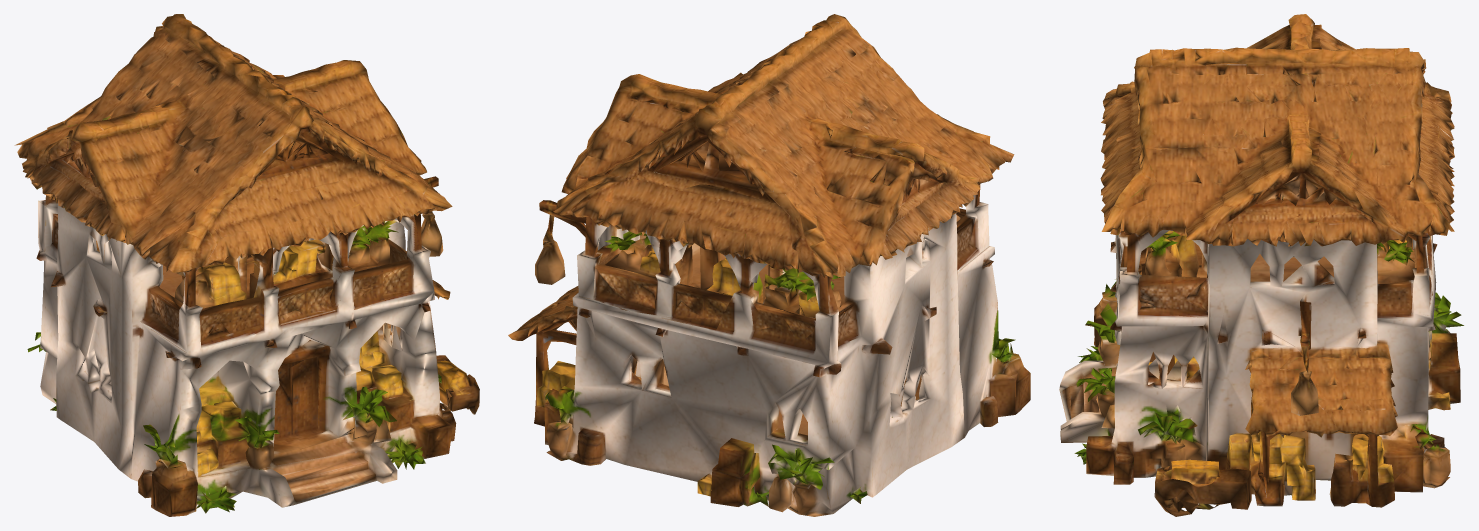
3 renders of one model, left to right at view 1: azimuth 30°, elevation 25°; view 2: azimuth 150°, elevation 25°; view 3: azimuth 270°, elevation 25°, orthographic. The views are drawn at different scales.
Visible parts, largest first — view 1: Mesh_0; view 2: Mesh_0; view 3: Mesh_0.
Boxes of the visible parts, x1=… form: Mesh_0: x1=14, y1=14, x2=479, y2=516; Mesh_0: x1=508, y1=14, x2=1030, y2=516; Mesh_0: x1=1059, y1=14, x2=1463, y2=516.
Bounding box in the file's own units: 8.82 × 8 × 7.82.
1 material, 1 textured.
